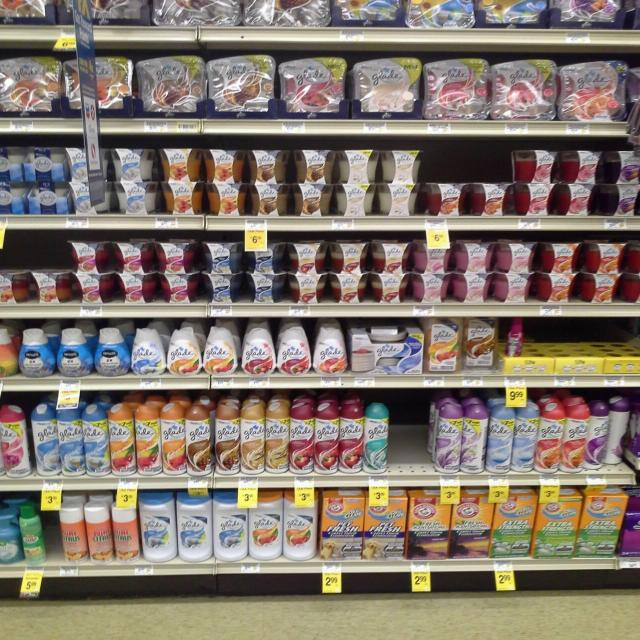empty_space: (393, 399, 427, 467)
